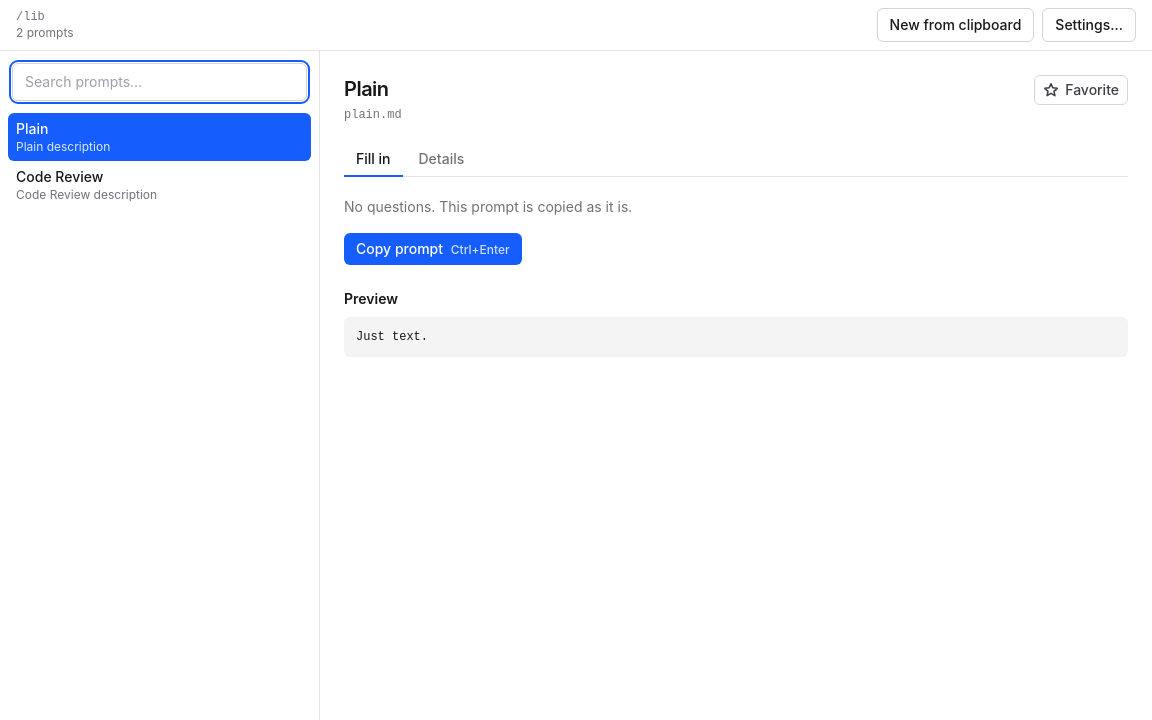
main window: working with the launcher › says so when there is nothing on the clipboard to save
The width and height of the screenshot is (1152, 720).
Step 1. Click the button "New from clipboard" → (955, 25), box [876,8,1034,42]
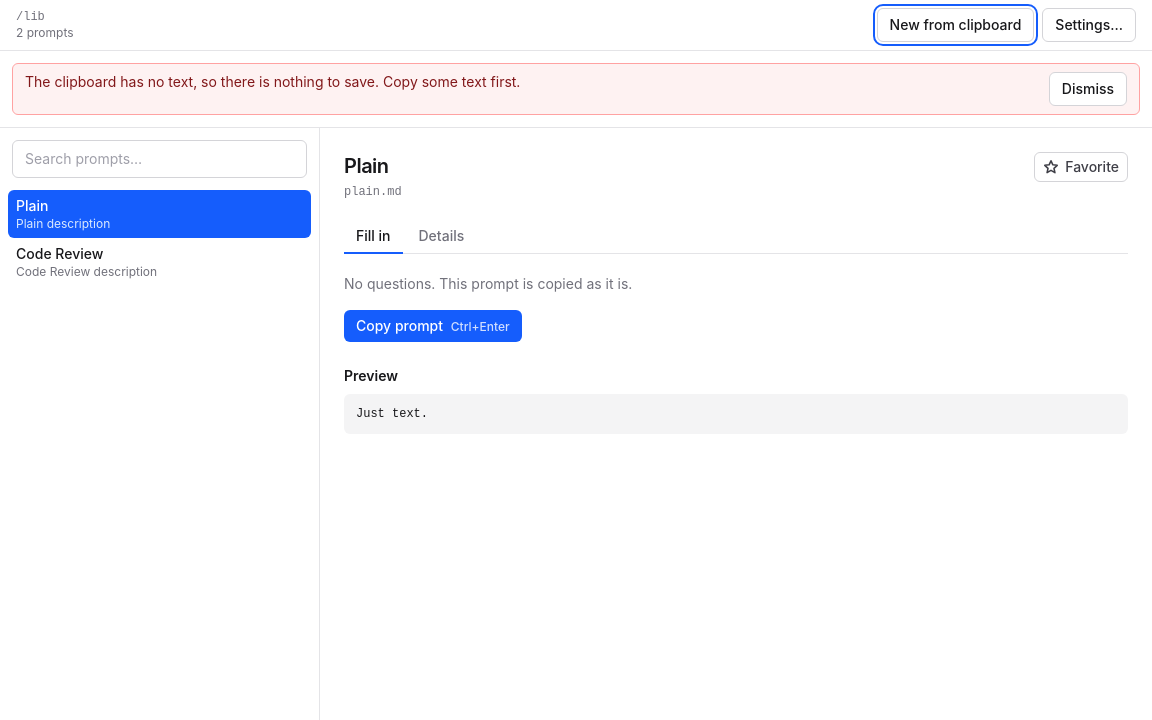
Result: the message shows "The clipboard has no text" at [25,73,520,90]
